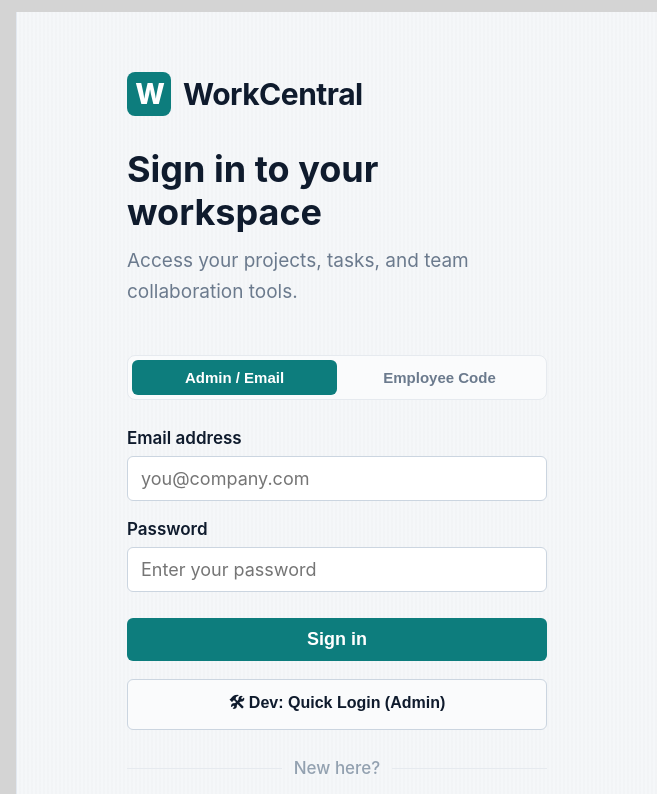
Login › switches to employee mode and shows Company ID field
What coordinates should you click on to do the following:
click the button "Employee Code"
I would click on:
 (440, 378)
Its box is [337,360,542,395].
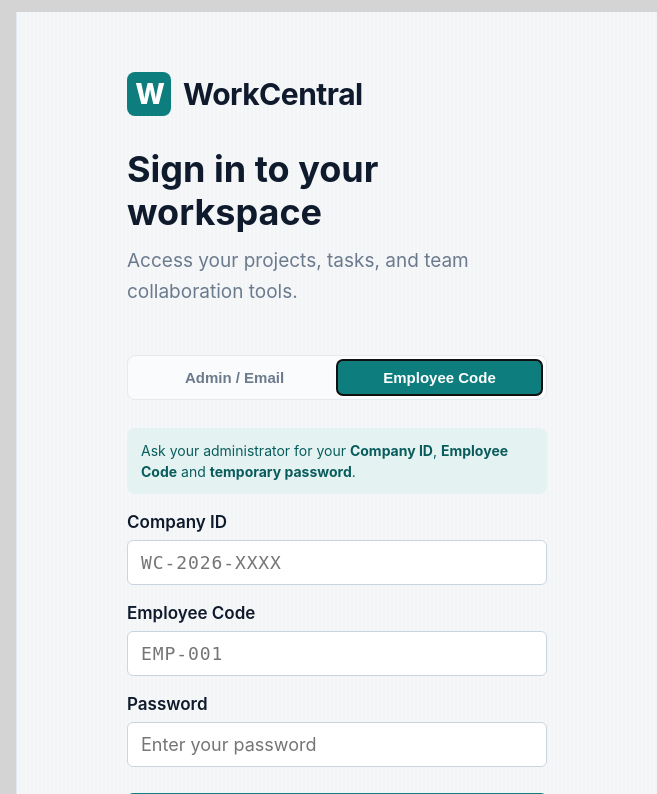
Check: the field with placeholder "WC-2026-XXXX" is shown, box [127,540,547,585]
Check: the field with placeholder "EMP-001" is shown, box [127,631,547,676]
